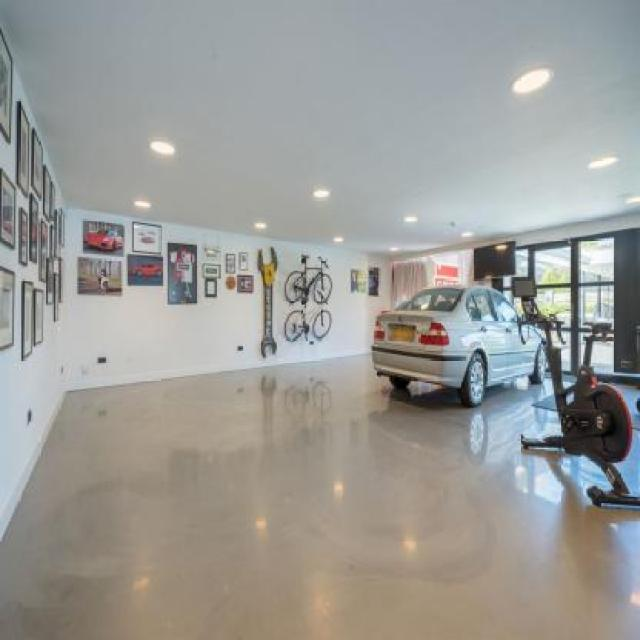floor: (0, 353, 640, 639)
